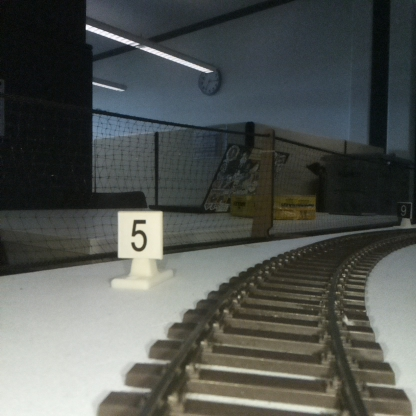black-stop-9: (398, 204, 410, 224)
white-stop-5: (118, 211, 161, 290)
